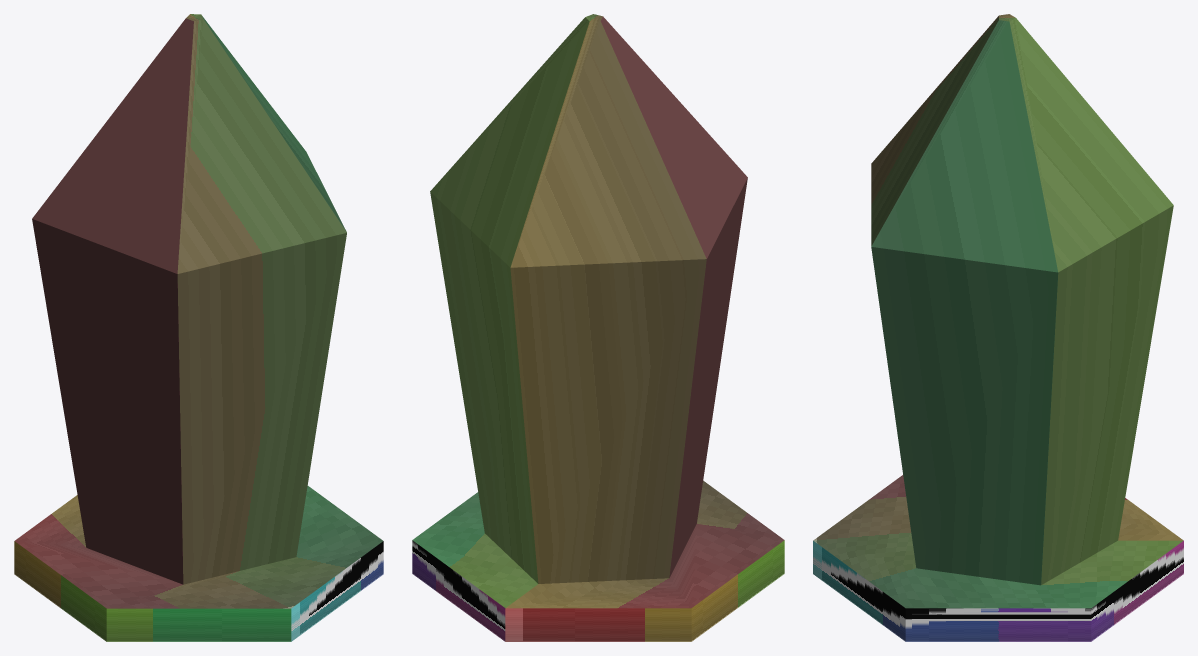
Rendered from test_obelisk.glb.
The picture shows the model from 3 angles, left to right: view 1: azimuth 30°, elevation 25°; view 2: azimuth 150°, elevation 25°; view 3: azimuth 270°, elevation 25°; orthographic projection.
Visible parts, largest first — view 1: Cylinder; view 2: Cylinder; view 3: Cylinder.
Part boxes in pixels (x1,y1,x2,y2): Cylinder: [14, 14, 383, 641]; Cylinder: [412, 14, 784, 641]; Cylinder: [813, 14, 1183, 641].
Size of the model in its own units: 1.73 by 3.31 by 2.
1 material, 1 textured.
